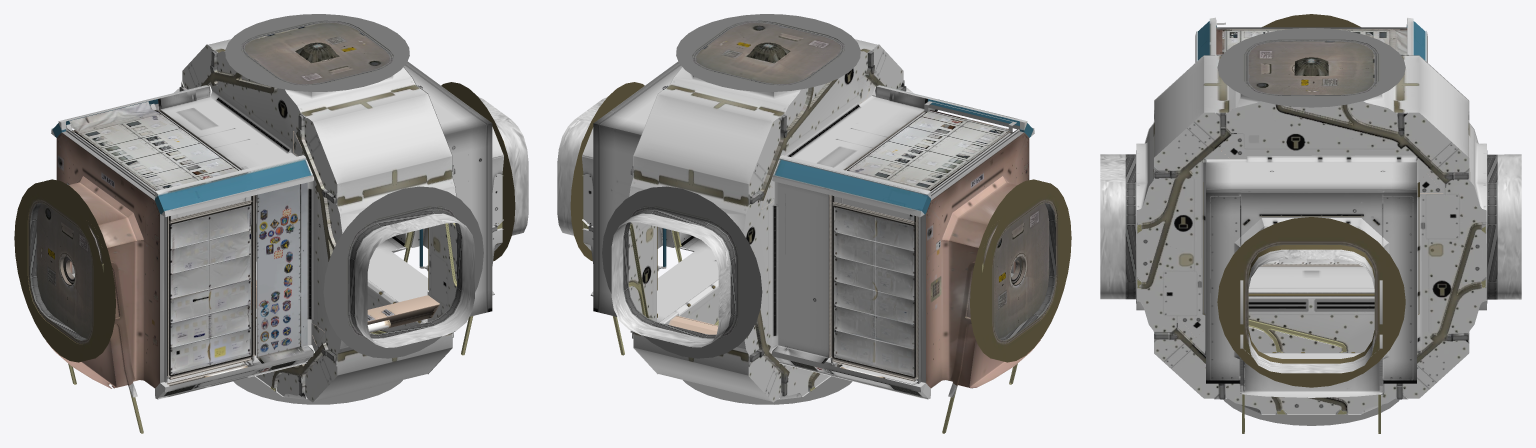
3 views of the same model, side by side, from view 1: azimuth 30°, elevation 25°; view 2: azimuth 150°, elevation 25°; view 3: azimuth 270°, elevation 25° (orthographic).
Visible parts, largest first — view 1: Node1_Int_Metal_Hatch_Zenith; view 2: Node1_Int_Metal_Hatch_Zenith; view 3: Node1_Int_Metal_Hatch_Zenith.
Boxes of the visible parts, x1,y1,x2,y2 form: Node1_Int_Metal_Hatch_Zenith: (14, 14, 528, 433); Node1_Int_Metal_Hatch_Zenith: (557, 14, 1071, 433); Node1_Int_Metal_Hatch_Zenith: (1100, 14, 1521, 433).
Size of the model in its own units: 5.19 by 4.26 by 3.72.
Materials: 6 (6 with a texture image).
